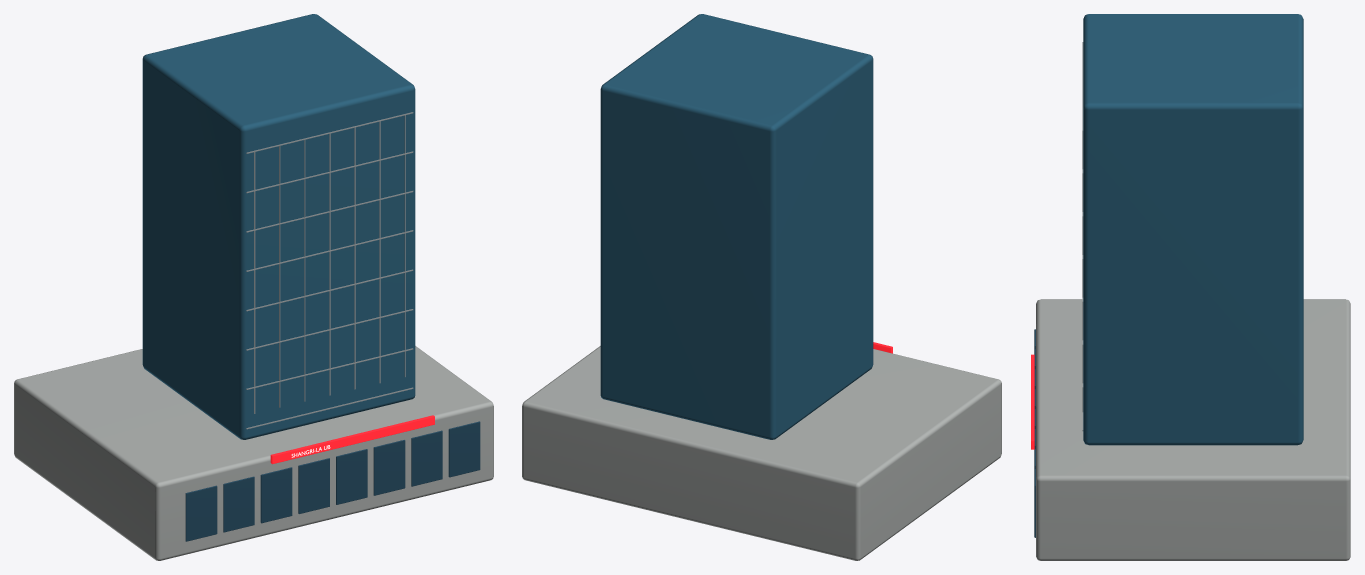
File: hf-shangri-la-study.glb
The picture shows the model from 3 angles, left to right: view 1: azimuth 30°, elevation 25°; view 2: azimuth 150°, elevation 25°; view 3: azimuth 270°, elevation 25°; orthographic projection. The views are drawn at different scales.
Visible parts, largest first — view 1: SHANGRILA_TOWER, SHANGRILA_PODIUM, SHANGRILA_PODIUM_WINDOW, SHANGRILA_VERTICAL_MULLION, SHANGRILA_SIGNBOARD; view 2: SHANGRILA_TOWER, SHANGRILA_PODIUM; view 3: SHANGRILA_TOWER, SHANGRILA_PODIUM, SHANGRILA_VERTICAL_MULLION, SHANGRILA_PODIUM_WINDOW.
Boxes of the visible parts, x1=… form: SHANGRILA_TOWER: x1=142, y1=14, x2=415, y2=439; SHANGRILA_PODIUM: x1=14, y1=346, x2=493, y2=560; SHANGRILA_PODIUM_WINDOW: x1=185, y1=421, x2=480, y2=541; SHANGRILA_VERTICAL_MULLION: x1=246, y1=112, x2=413, y2=429; SHANGRILA_SIGNBOARD: x1=270, y1=415, x2=434, y2=464; SHANGRILA_TOWER: x1=600, y1=14, x2=873, y2=439; SHANGRILA_PODIUM: x1=522, y1=346, x2=1001, y2=560; SHANGRILA_TOWER: x1=1083, y1=14, x2=1303, y2=445; SHANGRILA_PODIUM: x1=1036, y1=299, x2=1350, y2=560; SHANGRILA_VERTICAL_MULLION: x1=1082, y1=42, x2=1083, y2=431; SHANGRILA_PODIUM_WINDOW: x1=1034, y1=329, x2=1035, y2=537.
Size of the model in its own units: 27 by 30 by 20.37.
